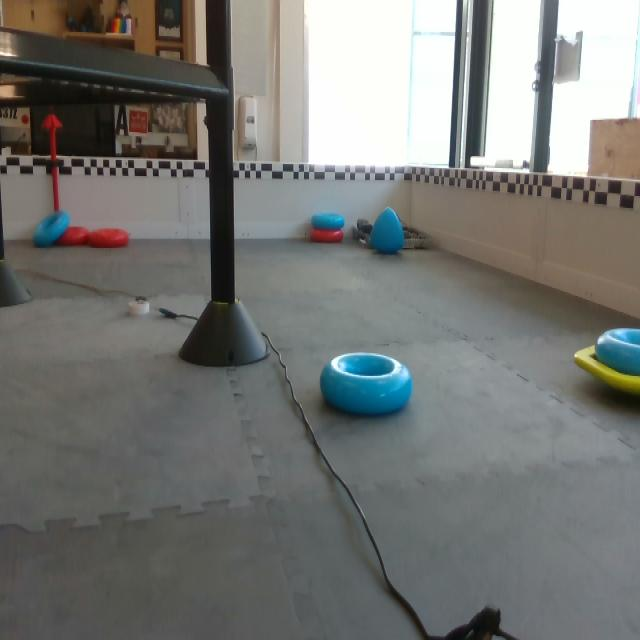Blue-Ring: (319, 353, 414, 419), (599, 327, 639, 374), (29, 206, 71, 250), (307, 212, 347, 228)
Mobile-Goal: (573, 342, 639, 394)
Red-Ring: (91, 227, 131, 248), (57, 225, 92, 245), (313, 227, 346, 244)
zred-Stake-Head: (42, 114, 62, 128)
